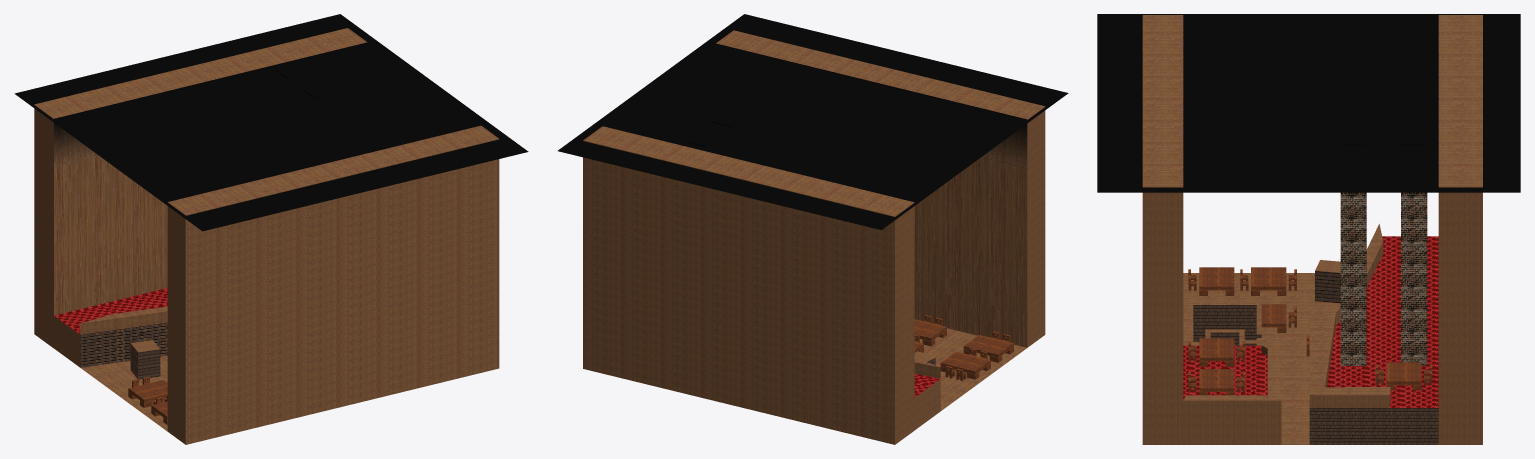
The model's file is library.glb.
3 views of the same model, side by side, from view 1: azimuth 30°, elevation 25°; view 2: azimuth 150°, elevation 25°; view 3: azimuth 270°, elevation 25° (orthographic). The views are drawn at different scales.
Visible parts, largest first — view 1: map, ceiling, bookshelf, table.002; view 2: map, ceiling, table.002, table.001, tables; view 3: map, ceiling, pillar, pillar.001, bookshelf, table.001, table.002, table.005, table.007, table.006, table.003.
Boxes of the visible parts, x1,y1,x2,y2 form: map: (34,28,499,444); ceiling: (14,14,528,231); bookshelf: (130,340,160,379); table.002: (128,380,167,407); map: (583,30,1045,444); ceiling: (558,14,1068,229); table.002: (940,351,990,379); table.001: (963,335,1013,362); tables: (914,319,946,346); map: (1142,15,1482,444); ceiling: (1097,14,1520,192); pillar: (1340,133,1366,365); pillar.001: (1401,133,1427,365); bookshelf: (1315,260,1340,303); table.001: (1199,267,1234,295); table.002: (1251,267,1286,295); table.005: (1199,338,1234,366); table.007: (1386,362,1421,390); table.006: (1199,369,1234,395); table.003: (1261,304,1286,332).
Size of the model in its own units: 987 by 666 by 987.
8 materials, 7 textured.
